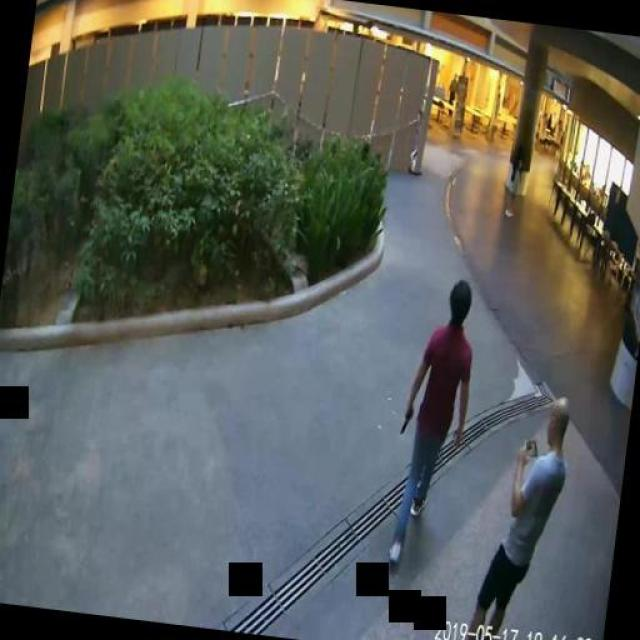gun: (398, 405, 414, 435)
